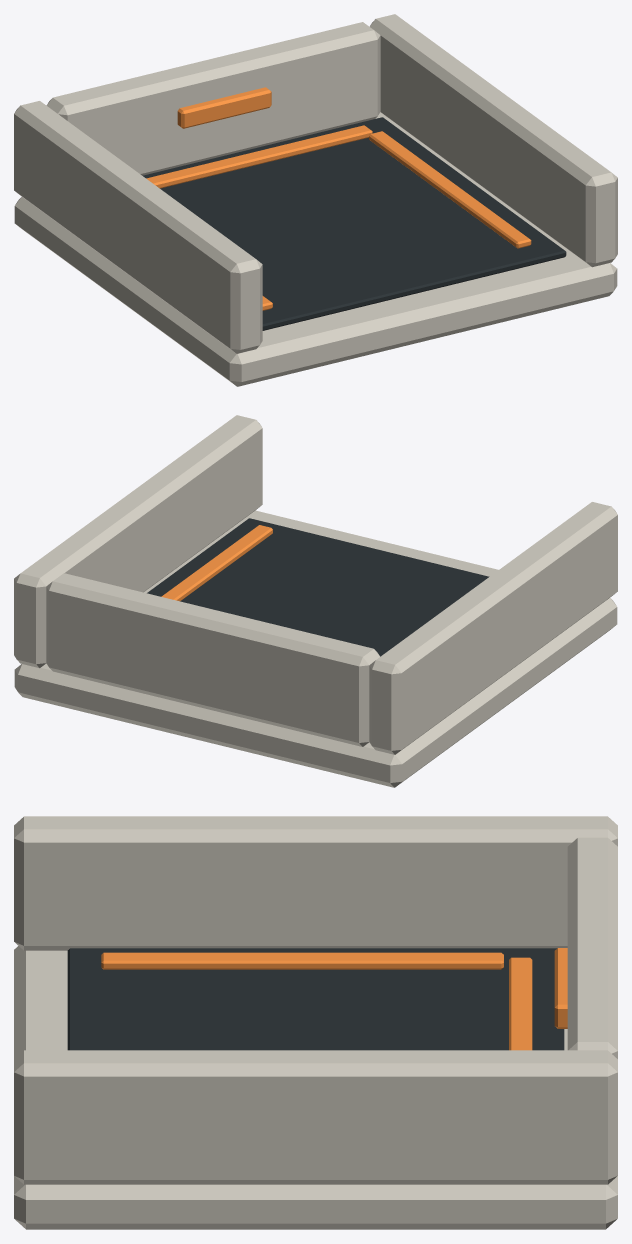
The model's file is usb_dock.glb.
The picture shows the model from 3 angles, top to bottom: view 1: azimuth 30°, elevation 25°; view 2: azimuth 150°, elevation 25°; view 3: azimuth 270°, elevation 25°; orthographic projection. The views are drawn at different scales.
Parts seen in each view (by area): view 1: dock_housing, dock_bed, dock_accent_trim, dock_indicator_lens; view 2: dock_housing, dock_bed, dock_accent_trim; view 3: dock_housing, dock_bed, dock_accent_trim, dock_indicator_lens.
Boxes of the visible parts, x1,y1,x2,y2 form: dock_housing: [14, 14, 617, 386]; dock_bed: [142, 117, 566, 330]; dock_accent_trim: [146, 125, 531, 310]; dock_indicator_lens: [177, 87, 271, 128]; dock_housing: [14, 415, 617, 787]; dock_bed: [147, 518, 489, 656]; dock_accent_trim: [161, 525, 272, 601]; dock_housing: [14, 816, 617, 1229]; dock_bed: [67, 948, 564, 1050]; dock_accent_trim: [101, 952, 532, 1050]; dock_indicator_lens: [554, 948, 567, 1028].
Bounding box in the file's own units: 0.18 × 0.055 × 0.18.
